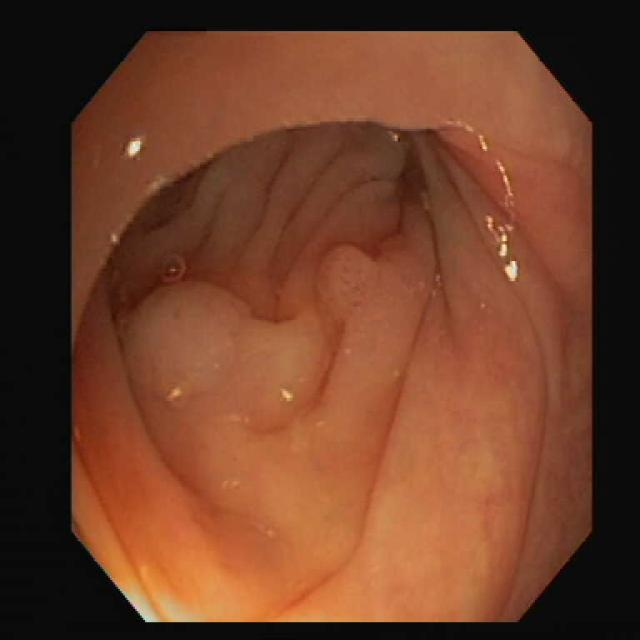tumor: (125, 280, 287, 400), (318, 244, 375, 318)
